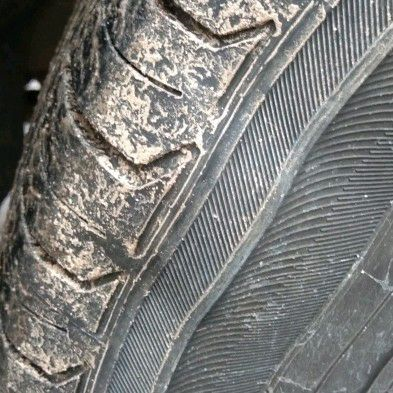CBU: (99, 111, 330, 324)
